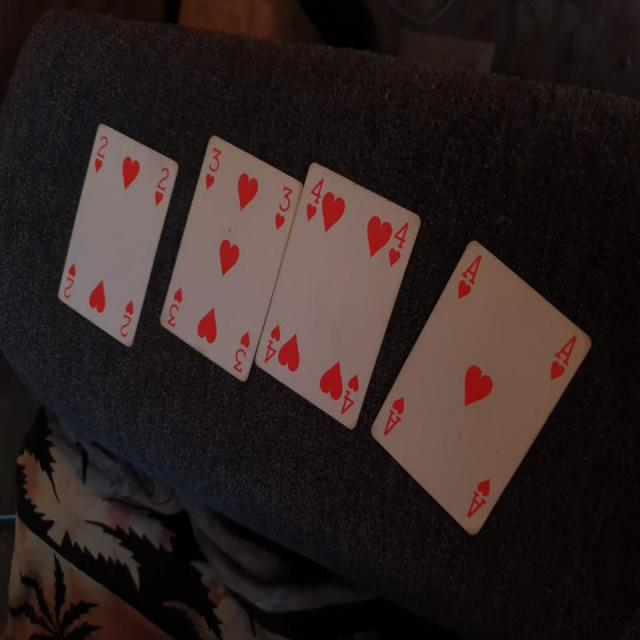2 Hearts: (53, 118, 178, 358)
3 Hearts: (157, 127, 309, 386)
4 Hearts: (260, 153, 423, 438)
A Hearts: (362, 232, 596, 546)
